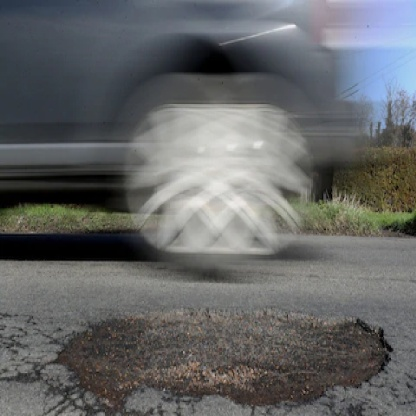pothole: (44, 300, 405, 407)
